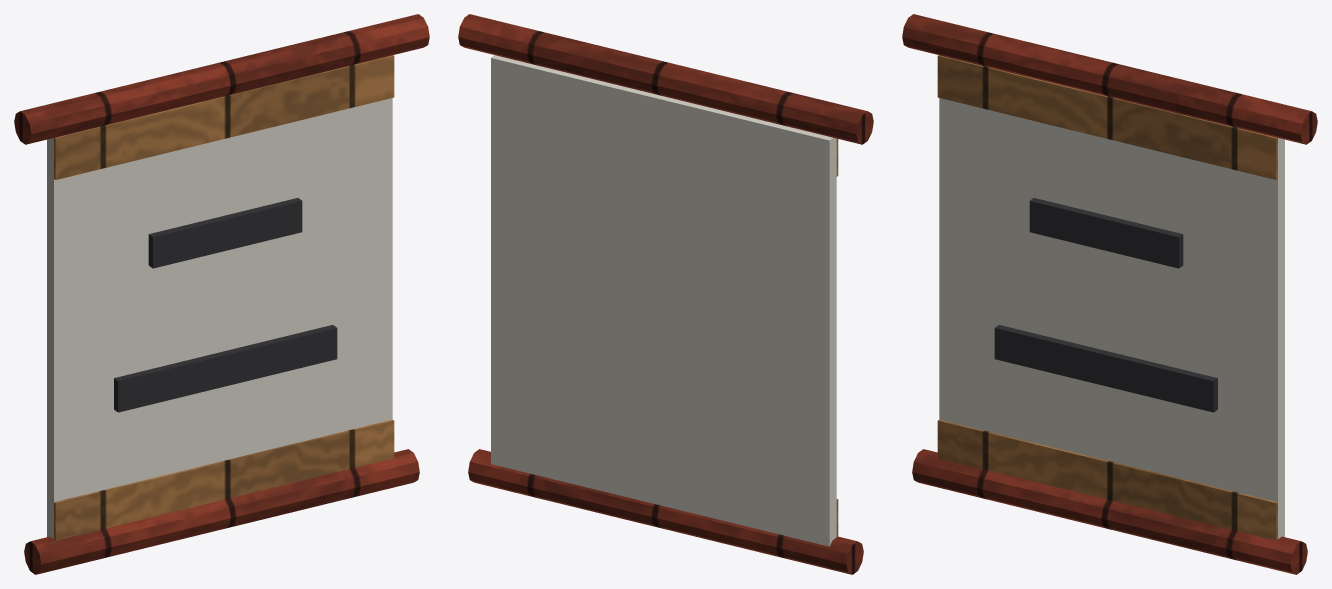
The model's file is Sign_Japanese_2.fbx.
3 views of the same model, side by side, from view 1: azimuth 30°, elevation 25°; view 2: azimuth 150°, elevation 25°; view 3: azimuth 330°, elevation 25° (orthographic).
Visible parts, largest first — view 1: Sign_Japanese_2; view 2: Sign_Japanese_2; view 3: Sign_Japanese_2.
Part boxes in pixels (left/top/right/bottom): Sign_Japanese_2: left=14, top=14, right=429, bottom=574; Sign_Japanese_2: left=458, top=14, right=873, bottom=574; Sign_Japanese_2: left=902, top=14, right=1317, bottom=574.
Size of the model in its own units: 0.8 by 0.8871 by 0.06.
Materials: 4 (2 with a texture image).
